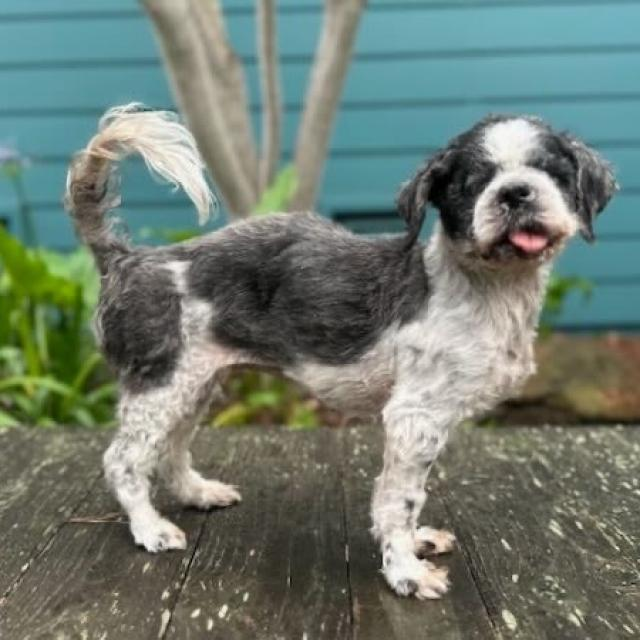shih_tzu_dog: (391, 93, 623, 284)
